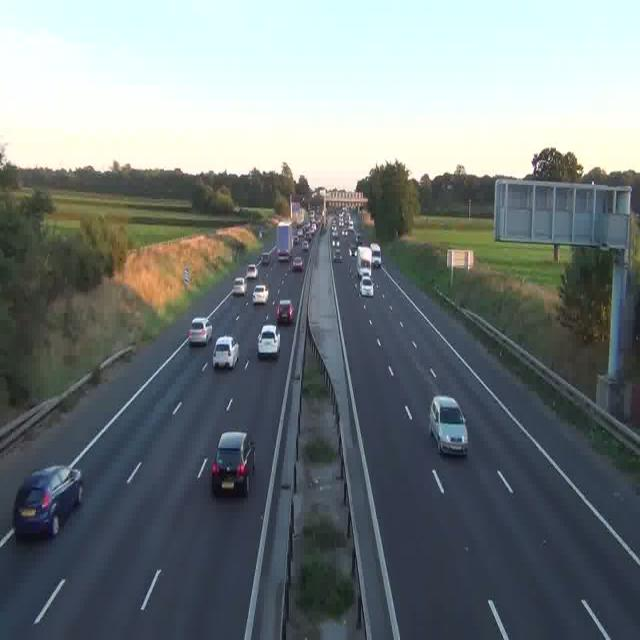car: (14, 466, 82, 540), (210, 430, 254, 497), (428, 396, 468, 456), (212, 335, 238, 368), (188, 316, 212, 345), (258, 324, 279, 356), (276, 298, 292, 324), (252, 284, 268, 305), (359, 273, 374, 294), (232, 278, 248, 297), (292, 258, 304, 272), (245, 265, 257, 278), (259, 252, 270, 266), (333, 249, 341, 262), (300, 240, 308, 252)
truck: (275, 220, 292, 258), (366, 242, 381, 268)
